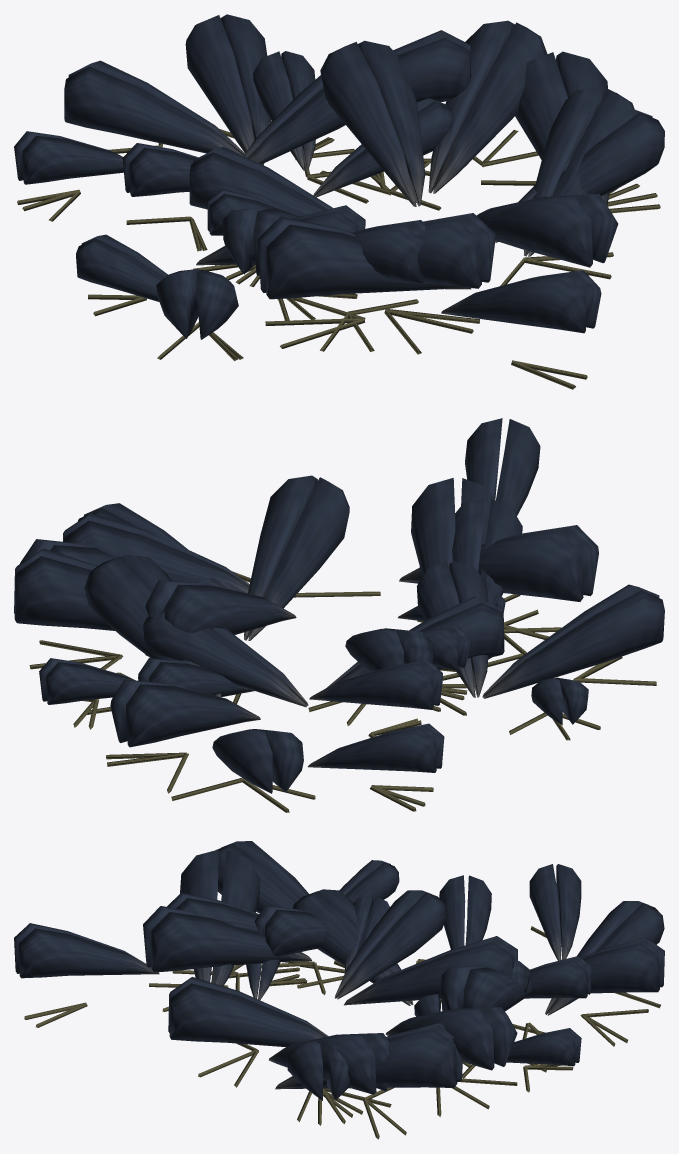
File: mussels-100.glb
The picture shows the model from 3 angles, top to bottom: view 1: azimuth 30°, elevation 25°; view 2: azimuth 150°, elevation 25°; view 3: azimuth 270°, elevation 25°; orthographic projection. The views are drawn at different scales.
Visible parts, largest first — view 1: LOD0; view 2: LOD0; view 3: LOD0.
Part boxes in pixels (x1,y1,x2,y2): LOD0: (14, 14, 664, 389); LOD0: (14, 418, 664, 812); LOD0: (14, 841, 664, 1139).
Size of what is drawn, in the model's own units: 0.4412 by 0.0931 by 0.5124.
1 material, 1 textured.
